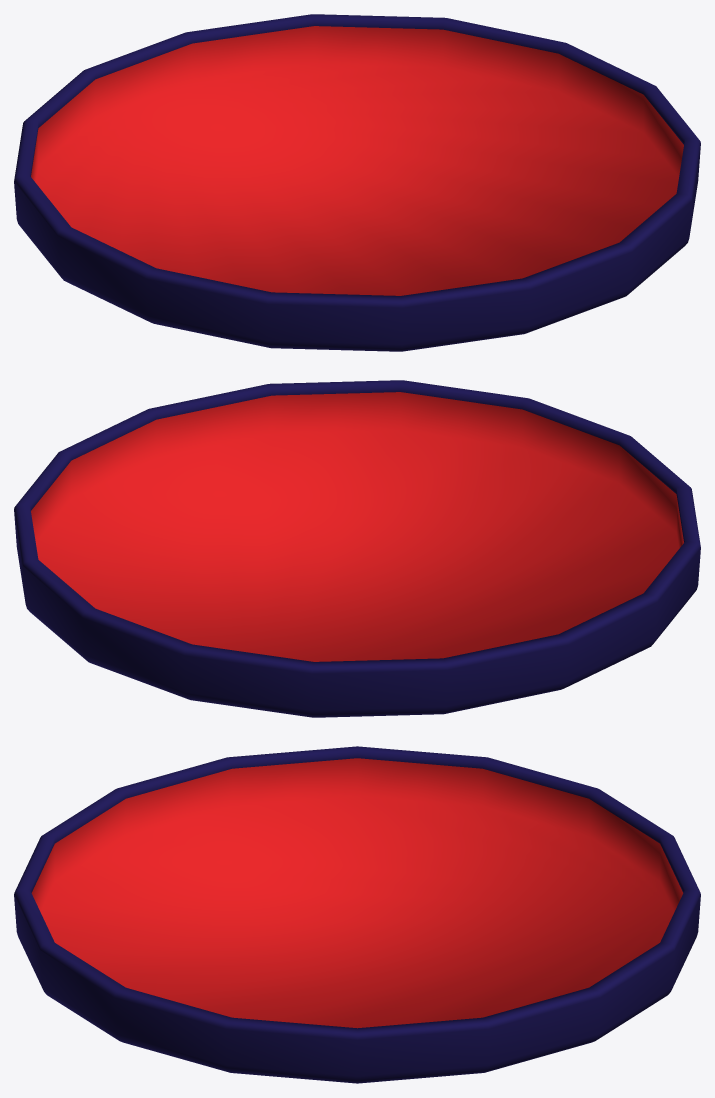
Rendered from dangoPlate.fbx.
The picture shows the model from 3 angles, top to bottom: view 1: azimuth 30°, elevation 25°; view 2: azimuth 150°, elevation 25°; view 3: azimuth 270°, elevation 25°; orthographic projection.
Visible parts, largest first — view 1: 円; view 2: 円; view 3: 円.
Boxes of the visible parts, x1,y1,x2,y2 form: 円: (14, 14, 700, 351); 円: (14, 380, 700, 717); 円: (14, 746, 700, 1083).
Bounding box in the file's own units: 210 × 18.41 × 210.
